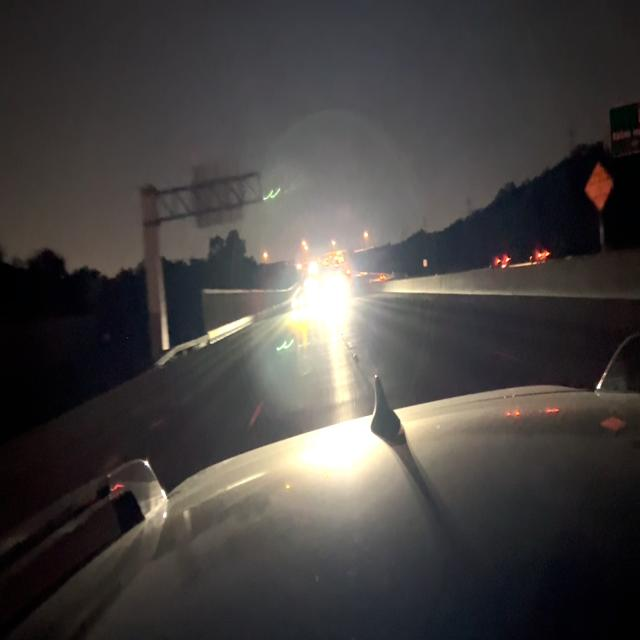back-of-sign: (194, 155, 241, 229)
